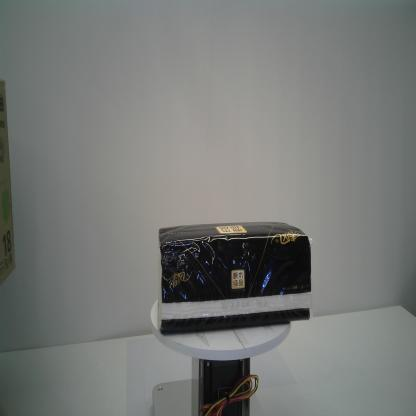Tissue: (154, 217, 314, 335)
